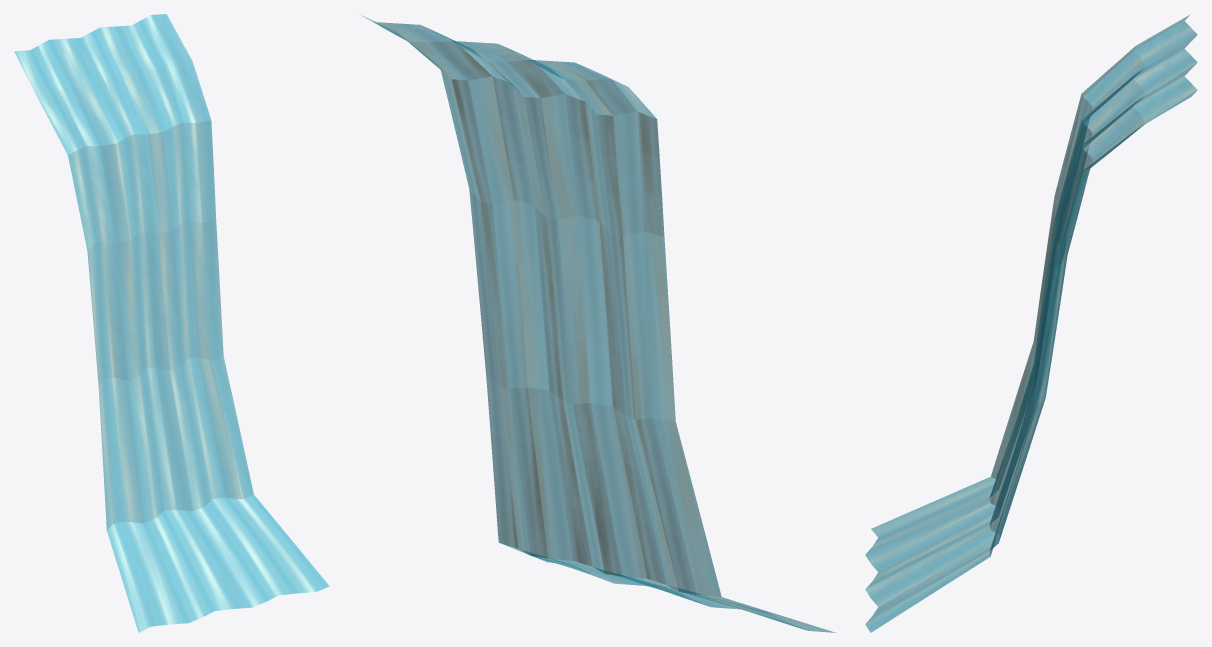
The model's file is Origin_Waterfall_Surface.glb.
The picture shows the model from 3 angles, left to right: view 1: azimuth 30°, elevation 25°; view 2: azimuth 150°, elevation 25°; view 3: azimuth 270°, elevation 25°; orthographic projection. The views are drawn at different scales.
Parts seen in each view (by area): view 1: Origin_Waterfall_Surface; view 2: Origin_Waterfall_Surface; view 3: Origin_Waterfall_Surface.
Part boxes in pixels (<box>): Origin_Waterfall_Surface: <box>14,14,329,632</box>; Origin_Waterfall_Surface: <box>361,15,835,632</box>; Origin_Waterfall_Surface: <box>865,14,1197,632</box>.
Size of the model in its own units: 1.04 by 2.45 by 1.41.
Materials: 1 (1 with a texture image).
